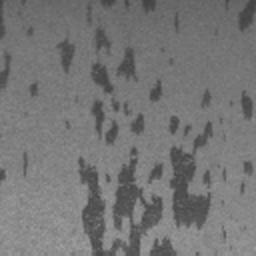Red iron sheet: (73, 0, 253, 256), (0, 0, 27, 88), (0, 148, 31, 180), (224, 0, 256, 29), (56, 31, 76, 72), (157, 45, 174, 67), (28, 81, 41, 99), (172, 12, 179, 32), (63, 118, 72, 131), (24, 27, 32, 38)
